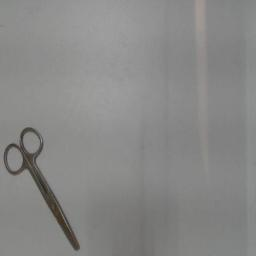Dressing Scissors: (1, 122, 87, 254)
